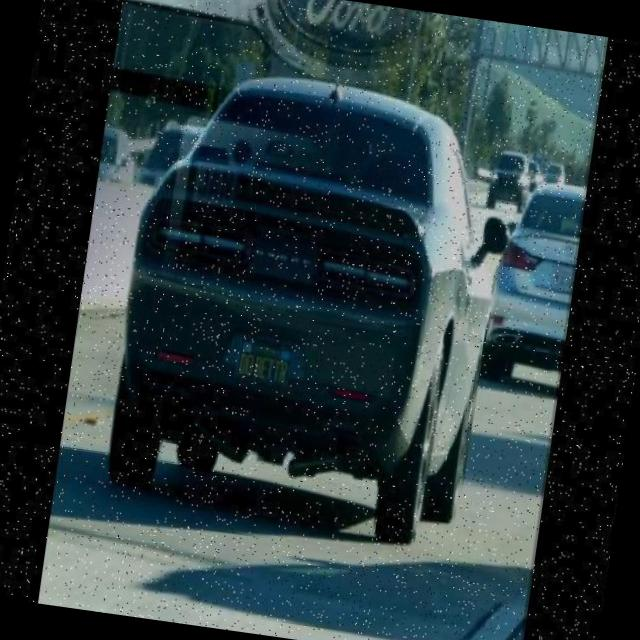LicensePlate: (234, 329, 292, 392)
